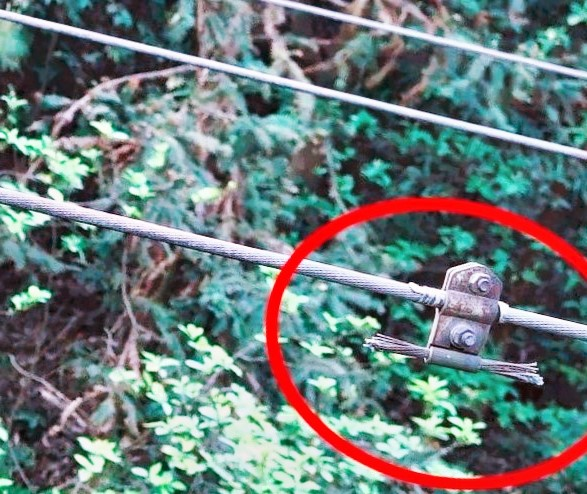Damage of shockproof hammer: (357, 255, 556, 395)
